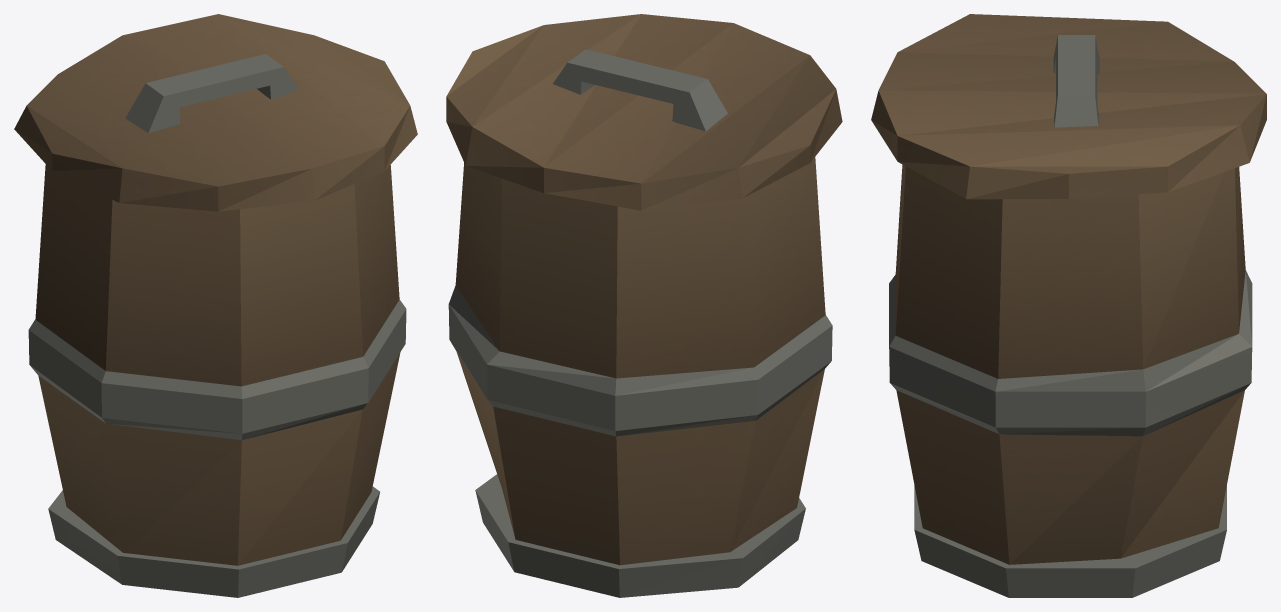
The model's file is ZLP_Build_E_7.FBX.
3 views of the same model, side by side, from view 1: azimuth 30°, elevation 25°; view 2: azimuth 150°, elevation 25°; view 3: azimuth 270°, elevation 25° (orthographic). The views are drawn at different scales.
Parts seen in each view (by area): view 1: ZLP_Build_E_7; view 2: ZLP_Build_E_7; view 3: ZLP_Build_E_7.
Boxes of the visible parts, x1,y1,x2,y2 form: ZLP_Build_E_7: (14, 14, 417, 597); ZLP_Build_E_7: (446, 14, 842, 597); ZLP_Build_E_7: (871, 14, 1266, 597).
Size of the model in its own units: 52.73 by 69.02 by 52.73.
